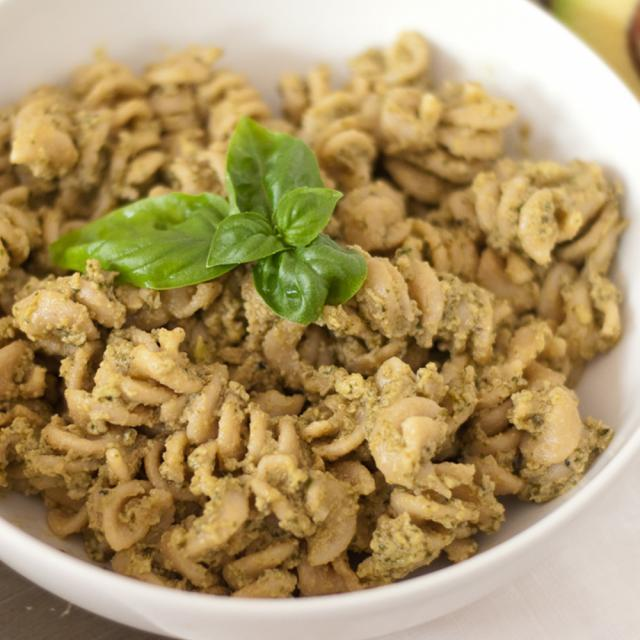Oil pasta: (15, 53, 554, 549)
